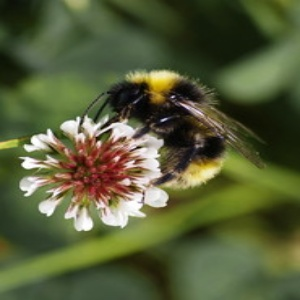bee: (96, 70, 264, 195)
